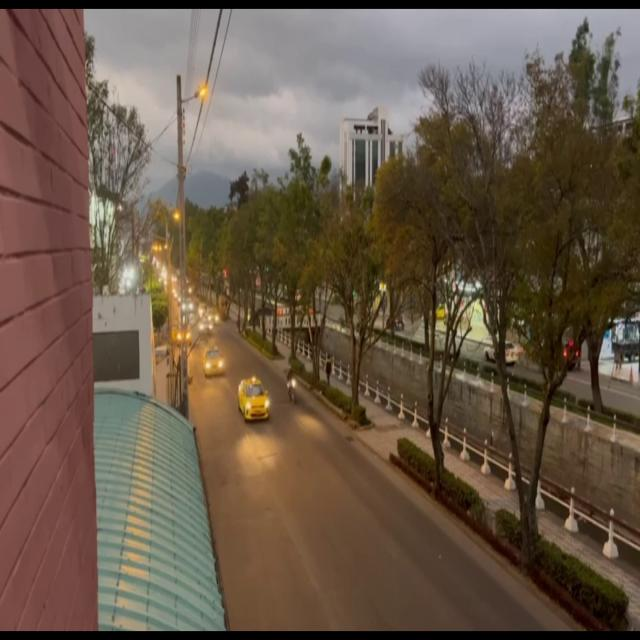MOTORCYCLE: (287, 380, 298, 405)
SED: (238, 381, 268, 420), (205, 348, 224, 376)
